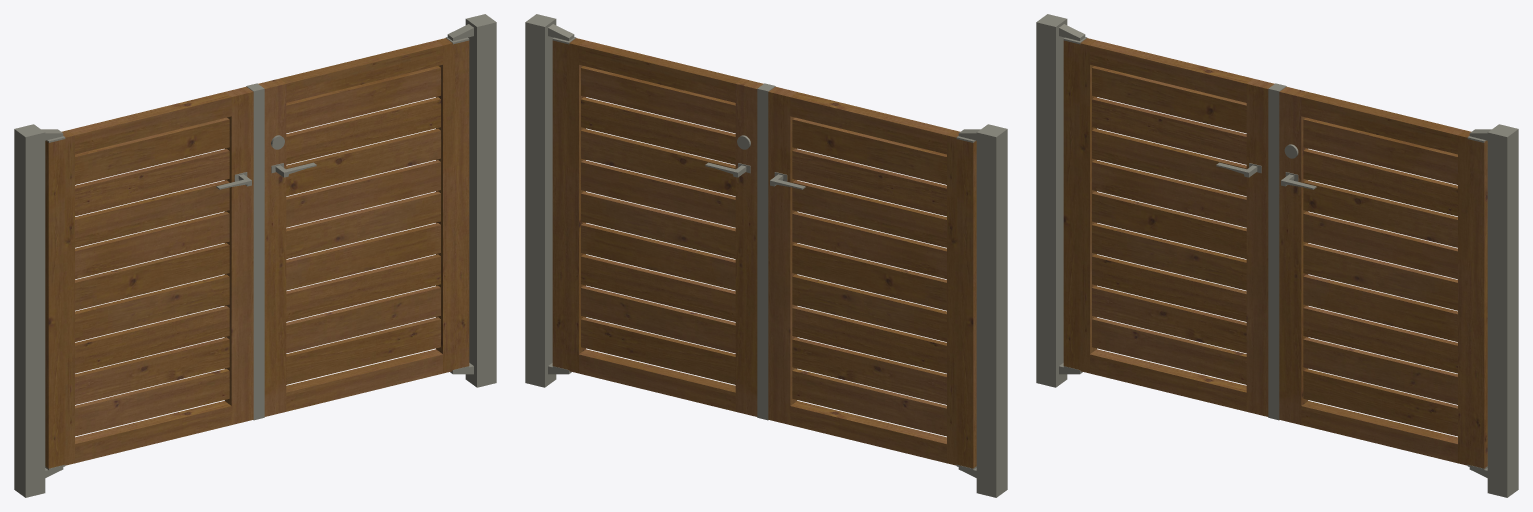
Rendered from awmonpi2-102yoko_h1200-w800-800_naturalpine.fbx.
3 renders of one model, left to right at view 1: azimuth 30°, elevation 25°; view 2: azimuth 150°, elevation 25°; view 3: azimuth 330°, elevation 25°, orthographic.
Visible parts, largest first — view 1: awmonpi2-102yoko_h1200-w800-800_chacoalgray.005; view 2: awmonpi2-102yoko_h1200-w800-800_chacoalgray.005; view 3: awmonpi2-102yoko_h1200-w800-800_chacoalgray.005.
Boxes of the visible parts, x1=… form: awmonpi2-102yoko_h1200-w800-800_chacoalgray.005: x1=14, y1=14, x2=496, y2=497; awmonpi2-102yoko_h1200-w800-800_chacoalgray.005: x1=525, y1=14, x2=1007, y2=497; awmonpi2-102yoko_h1200-w800-800_chacoalgray.005: x1=1036, y1=14, x2=1518, y2=497.
Bounding box in the file's own units: 180 × 132 × 16.7.
Materials: 2 (2 with a texture image).
